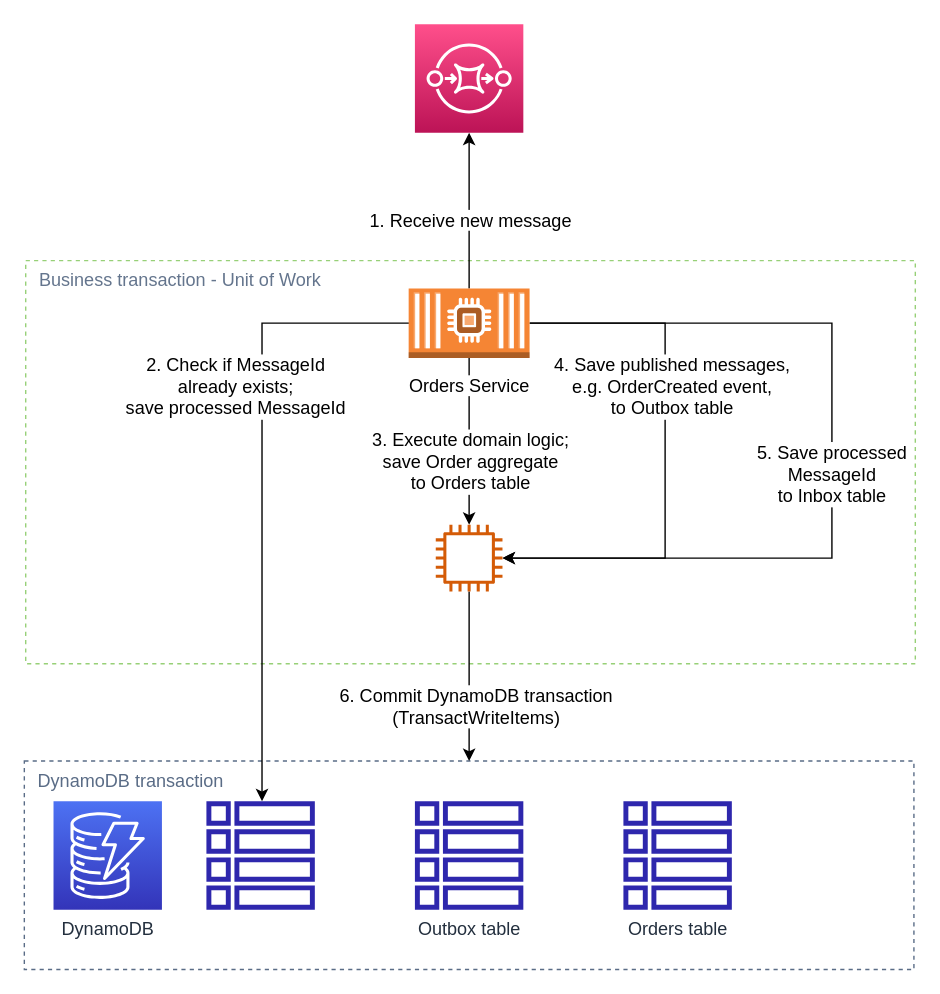
Some shapes in this 940 by 994 pixel diagram are drawn without their labels. Here are the shapes that lost their labels. From the top down, the centre of each, then its label:
point (468, 78): SQS queue
point (468, 557): Unit of Work
point (260, 855): Inbox table
